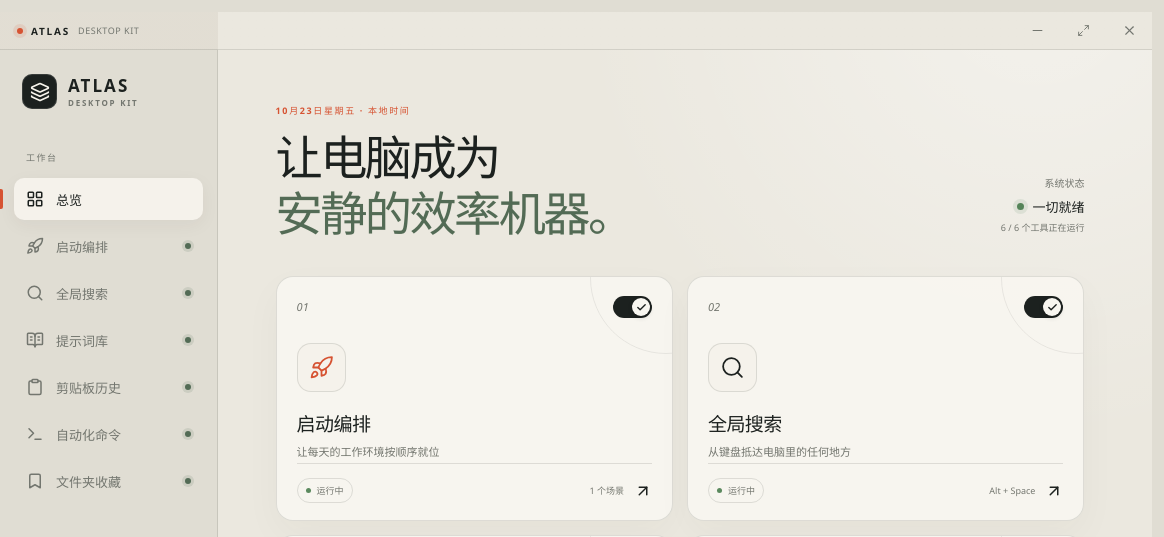
Atlas desktop toolkit › creates a custom startup scene
Click the button "启动编排" at (108, 246), box left=14, top=225, right=203, bottom=267
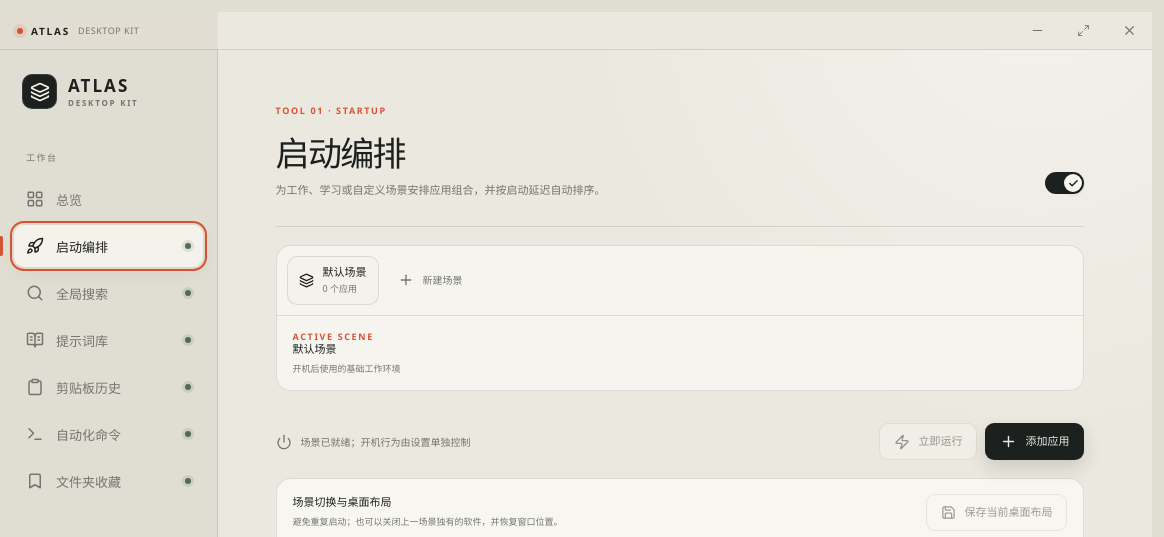
Click the button "新建场景" at (430, 280), box left=386, top=256, right=475, bottom=305
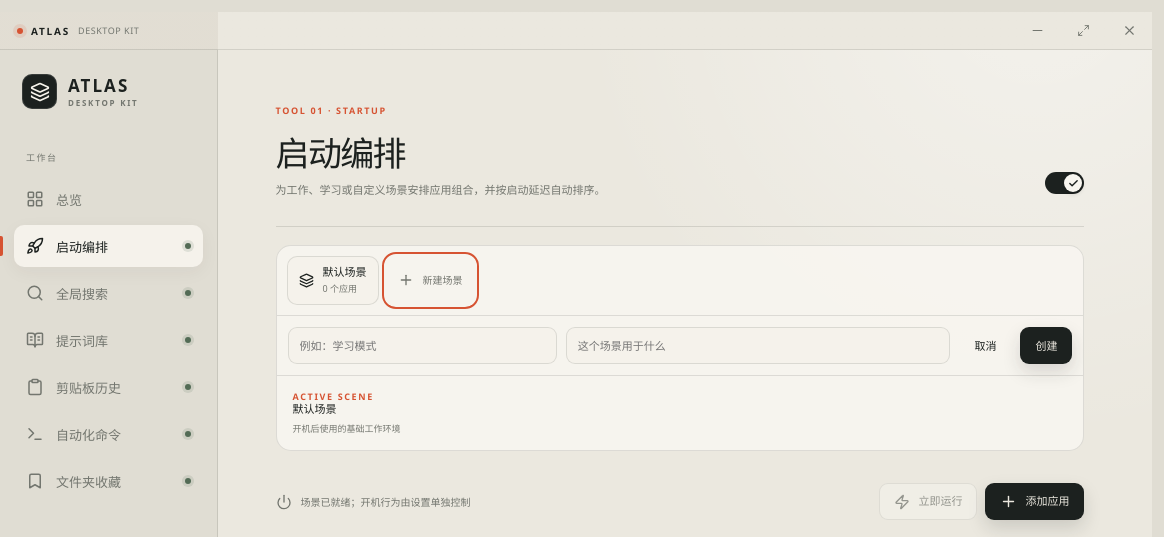
Type "学习模式" into the field named "场景名称" at (422, 345), box left=288, top=327, right=557, bottom=364
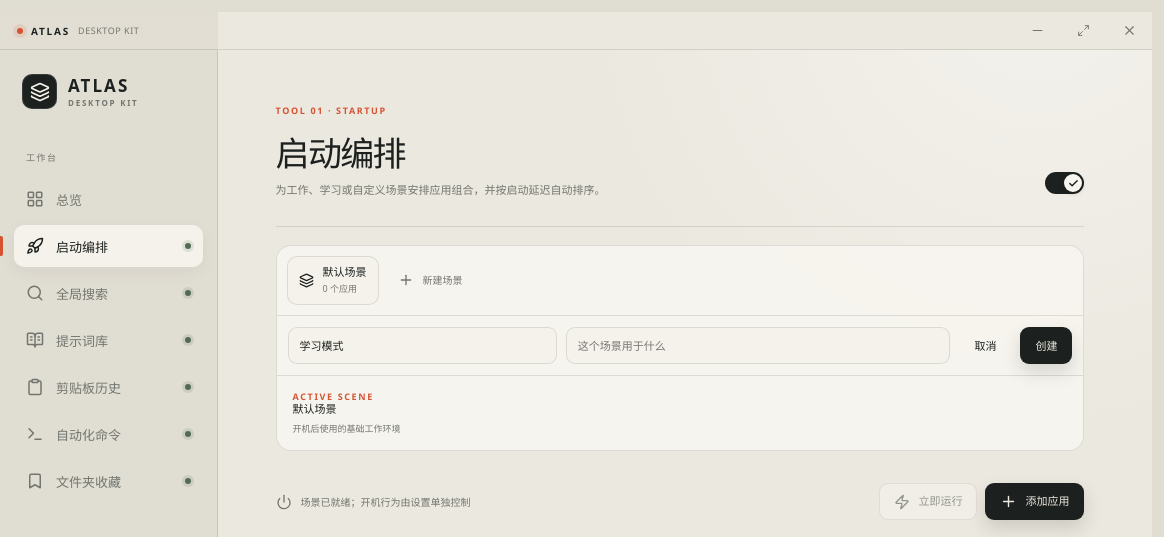
Type "打开学习软件" into the field named "场景描述" at (758, 345), box left=566, top=327, right=950, bottom=364
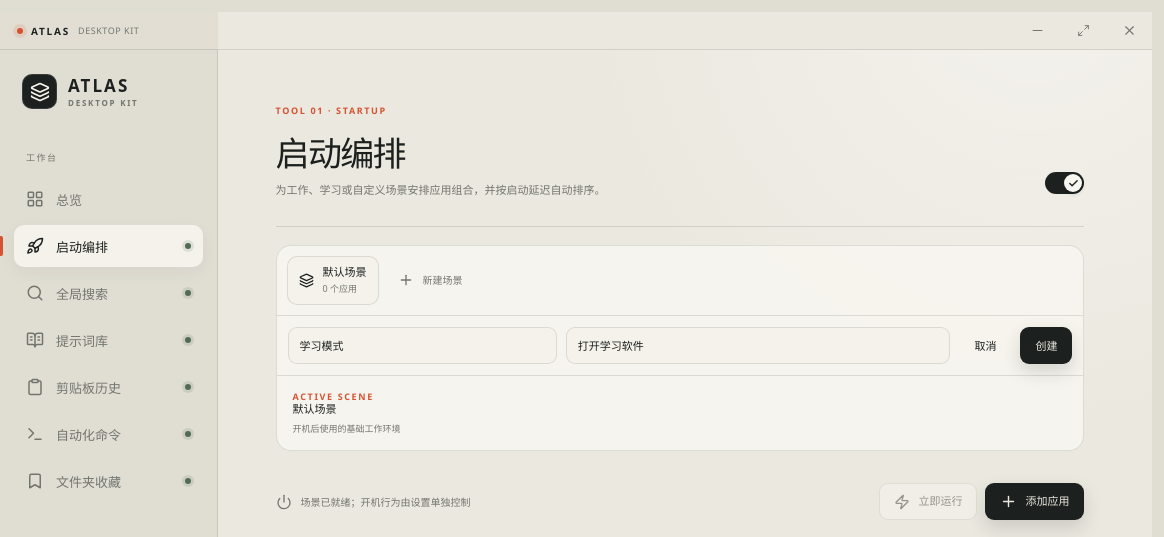
Click the button "创建" at (1046, 345), box left=1020, top=327, right=1072, bottom=364
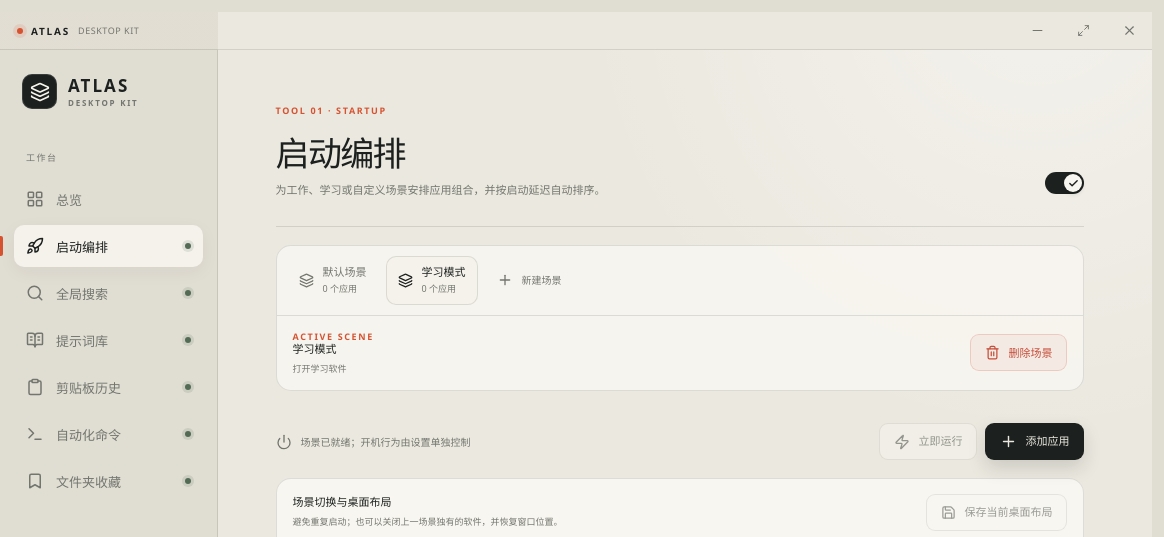
Result: the 1st text "学习模式" is shown at left=422, top=265, right=466, bottom=280
